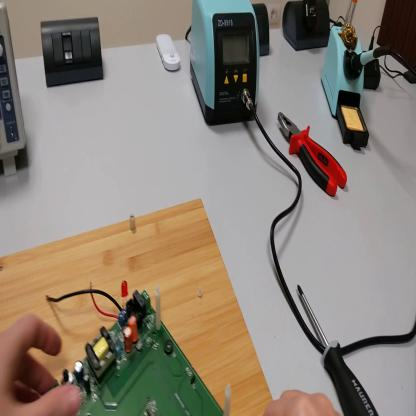hand: (2, 311, 81, 416), (265, 389, 343, 415)
low voltage board: (30, 280, 231, 416)
oscilloscope: (2, 6, 28, 177)
pliers: (278, 111, 349, 199)
screwdriver-: (298, 284, 379, 415)
socket: (283, 2, 333, 52), (255, 3, 270, 54)
welder base: (321, 22, 371, 151)
welder probe tip: (345, 35, 394, 84)
welder station: (190, 3, 261, 125)
working area: (5, 200, 277, 413)
